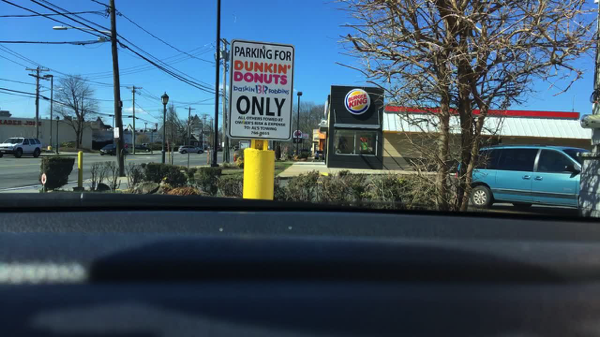car: (454, 143, 592, 211), (0, 137, 44, 160), (100, 144, 127, 156), (177, 145, 205, 154), (134, 145, 151, 152), (232, 145, 240, 151), (140, 143, 151, 147), (124, 144, 132, 148)
